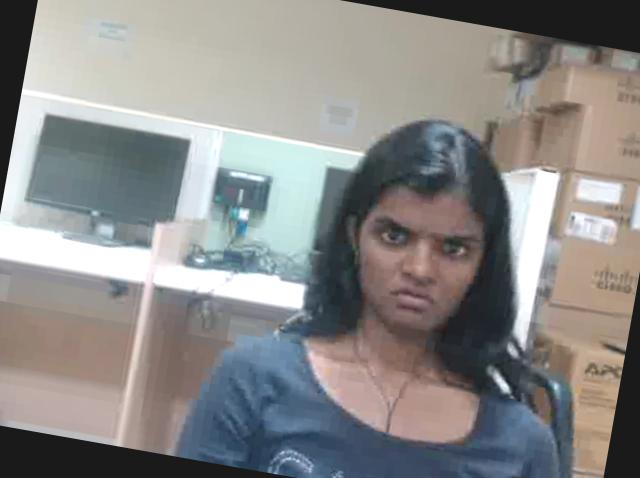bosan: (347, 175, 488, 340)
